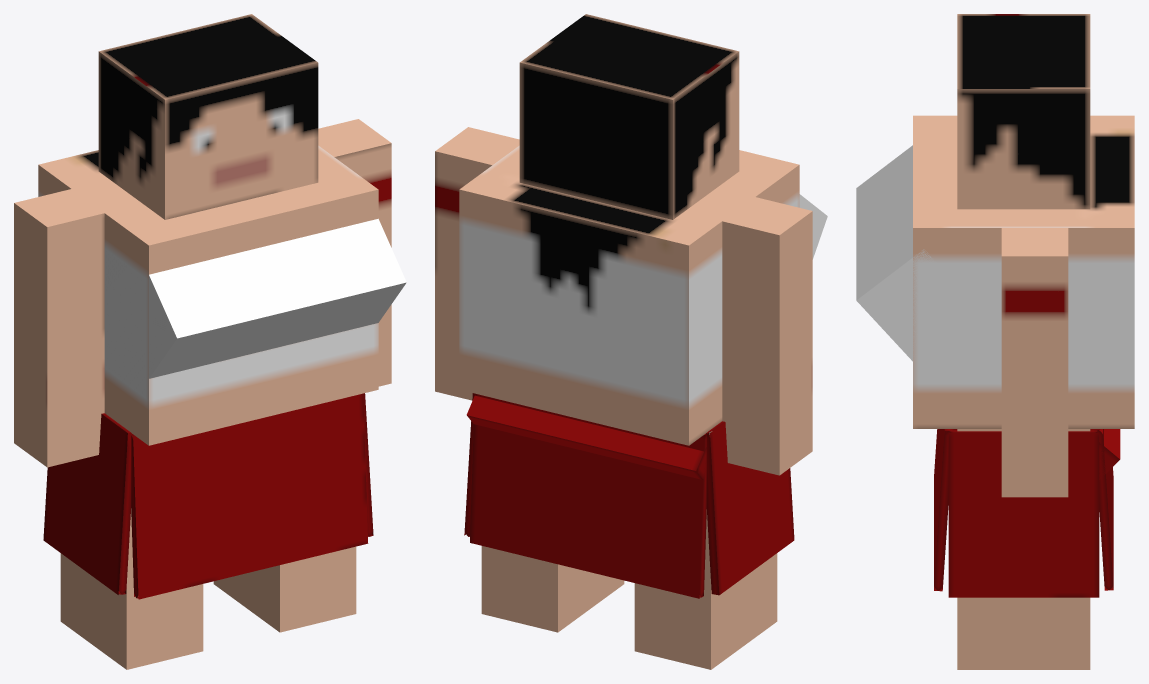
File: babyGirlNPC.fbx
The picture shows the model from 3 angles, left to right: view 1: azimuth 30°, elevation 25°; view 2: azimuth 150°, elevation 25°; view 3: azimuth 270°, elevation 25°; orthographic projection.
Parts seen in each view (by area): view 1: cube_3, cube_6, cube_11, cube_10, cube_4, cube_13, cube_8, cube_7, cube_5, cube_12; view 2: cube_3, cube_6, cube_14, cube_4, cube_8, cube_13, cube_5, cube_7, cube_9, cube_10, cube_12; view 3: cube_3, cube_6, cube_12, cube_5, cube_10, cube_7, cube_11, cube_14, cube_9.
Boxes of the visible parts, x1,y1,x2,y2 form: cube_3: (38,145,378,445); cube_6: (98,14,318,219); cube_11: (131,393,368,599); cube_10: (149,218,406,378); cube_4: (14,189,104,467); cube_13: (43,413,134,594); cube_8: (60,553,203,669); cube_7: (213,546,356,632); cube_5: (318,119,391,386); cube_12: (363,393,373,536); cube_3: (459,145,799,445); cube_6: (519,14,739,219); cube_14: (470,393,709,598); cube_4: (722,197,812,475); cube_8: (634,553,777,669); cube_13: (704,421,794,595); cube_5: (435,127,519,400); cube_7: (481,546,624,632); cube_9: (466,395,710,480); cube_10: (799,194,827,259); cube_12: (464,393,474,536); cube_3: (913,115,1134,428); cube_6: (957,14,1090,209); cube_12: (948,429,1099,597); cube_5: (1001,228,1068,497); cube_10: (856,145,979,361); cube_7: (957,597,1090,669); cube_11: (934,429,953,591); cube_14: (1094,429,1113,590); cube_9: (1090,429,1120,479).
Bounding box in the file's own units: 56.25 × 87.5 × 39.26.
Materials: 3 (3 with a texture image).
